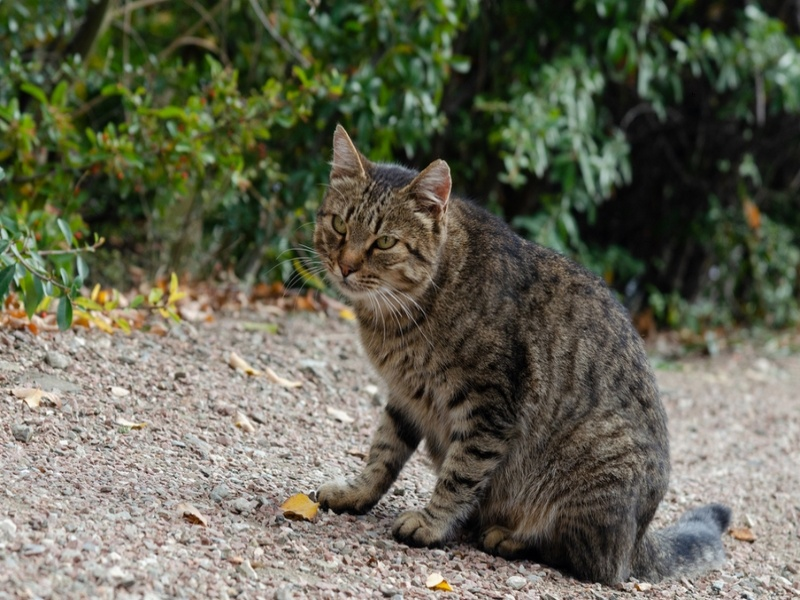cat: (307, 121, 739, 584)
